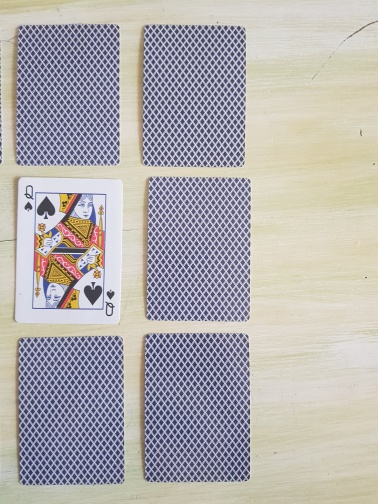queen: (12, 175, 125, 326)
